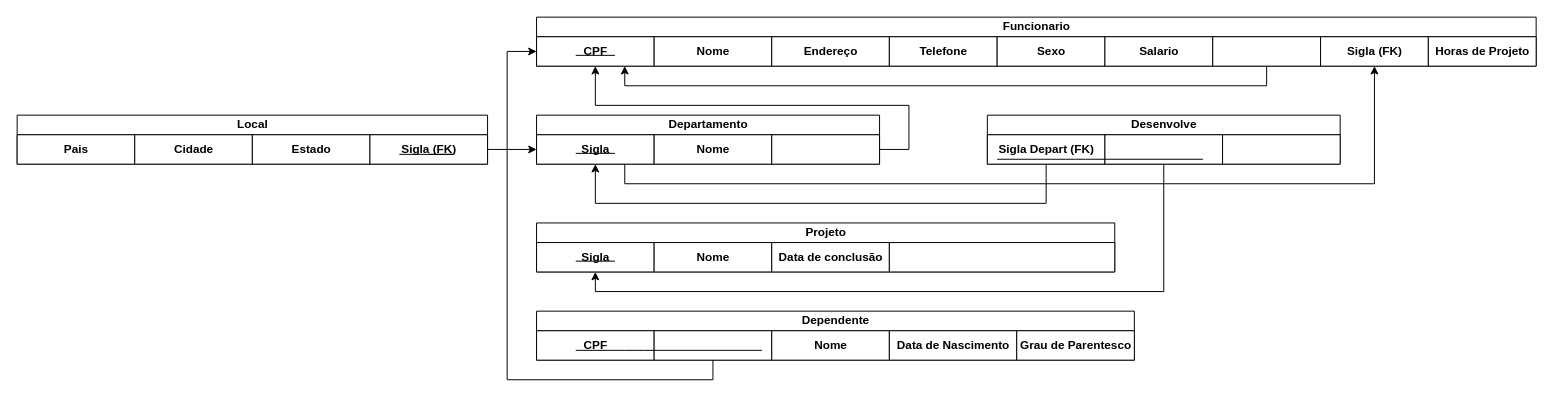
The diagram is 1553 pixels wide and 405 high, and some of its shapes have lost their labels. The centre of each missing label's shape, as x and y in pixels:
CPF (FK): (x=825, y=149)
CPF Func (FK): (x=712, y=345)
Horas: (x=1281, y=149)
Sigla Proj (FK): (x=1163, y=149)
Super Funcionario: (x=1266, y=51)
Total horas Trabalhadas p/ funcionario: (x=1001, y=257)
